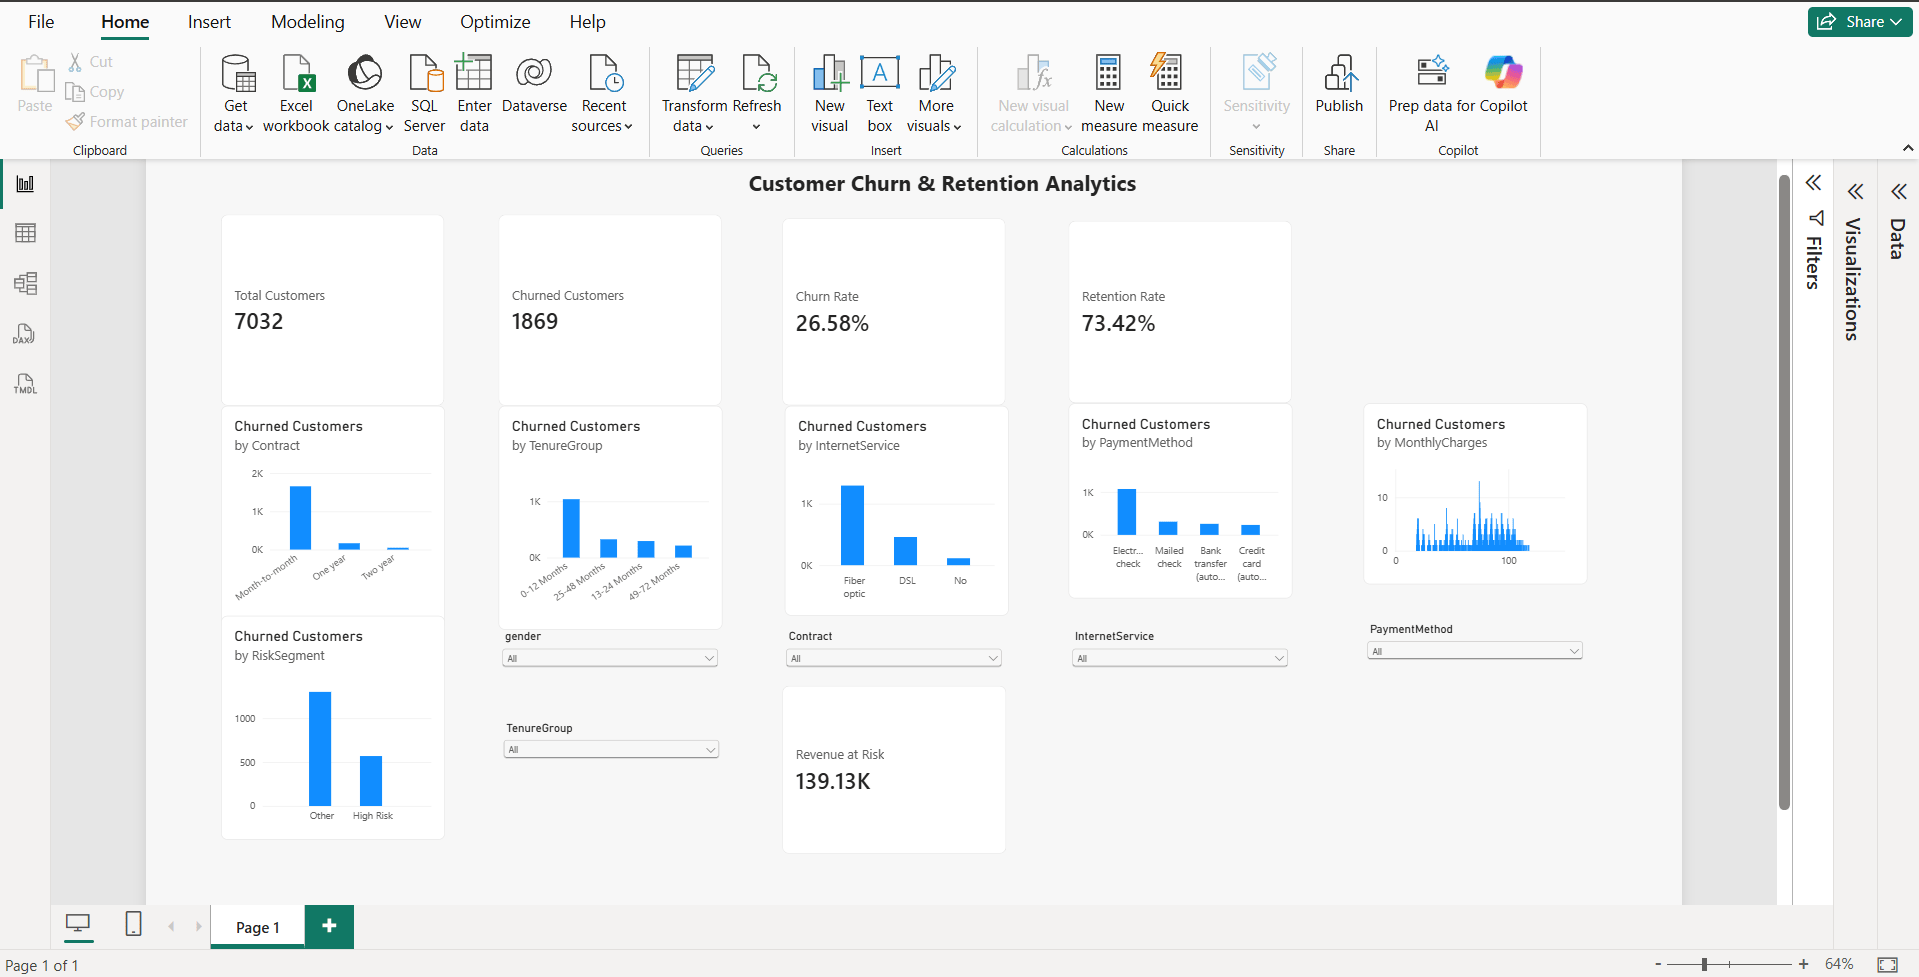

The page's visual inventory and layout, read from the dashboard file:
{"tool":"powerbi","page":{"name":"Page 1","canvas":[1920,1080],"ordinal":0},"visuals":[{"type":"cardVisual","fields":{"Data":["customer_churn_cleaned.Churn Rate"]},"box":[795.3,82.8,279.7,234.4],"z":5},{"type":"cardVisual","fields":{"Data":["customer_churn_cleaned.Retention Rate"]},"box":[1153.1,85.9,279.7,228.1],"z":6},{"type":"cardVisual","fields":{"Data":["Count(customer_churn_cleaned.customerID)"]},"box":[93.8,78.1,279.7,239.1],"z":7},{"type":"clusteredColumnChart","fields":{"Category":["customer_churn_cleaned.Contract"],"Y":["customer_churn_cleaned.Churned Customers"]},"box":[93.8,317.2,280,280],"z":8},{"type":"clusteredColumnChart","fields":{"Category":["customer_churn_cleaned.TenureGroup"],"Y":["customer_churn_cleaned.Churned Customers"]},"box":[440.6,317.2,280,280],"z":9},{"type":"clusteredColumnChart","fields":{"Category":["customer_churn_cleaned.InternetService"],"Y":["customer_churn_cleaned.Churned Customers"]},"box":[798.4,317.2,279.7,262.5],"z":10},{"type":"clusteredColumnChart","fields":{"Category":["customer_churn_cleaned.PaymentMethod"],"Y":["customer_churn_cleaned.Churned Customers"]},"box":[1153.1,314.1,279.7,243.8],"z":11},{"type":"clusteredColumnChart","fields":{"Category":["customer_churn_cleaned.RiskSegment"],"Y":["customer_churn_cleaned.Churned Customers"]},"box":[93.8,579.7,280,280],"z":13},{"type":"slicer","fields":{"Values":["customer_churn_cleaned.gender"]},"box":[440.6,596.9,279.7,140.6],"z":14},{"type":"slicer","fields":{"Values":["customer_churn_cleaned.Contract"]},"box":[795.3,596.9,279.7,123.4],"z":15},{"type":"slicer","fields":{"Values":["customer_churn_cleaned.InternetService"]},"box":[1153.1,596.9,279.7,112.5],"z":16},{"type":"slicer","fields":{"Values":["customer_churn_cleaned.PaymentMethod"]},"box":[1521.9,596.9,279.7,123.4],"z":17},{"type":"slicer","fields":{"Values":["customer_churn_cleaned.TenureGroup"]},"box":[442.2,710.9,279.7,148.4],"z":18},{"type":"textbox","box":[1503.1,20.3,279.7,48.4],"z":20},{"type":"textbox","box":[93.8,20.3,1707.8,48.4],"z":23},{"type":"cardVisual","fields":{"Data":["customer_churn_cleaned.Churned Customers"]},"box":[440.6,78.1,279.7,239.1],"z":24},{"type":"clusteredColumnChart","fields":{"Category":["customer_churn_cleaned.MonthlyCharges"],"Y":["customer_churn_cleaned.Churned Customers"]},"box":[1521.9,314.1,280,210],"z":25},{"type":"cardVisual","fields":{"Data":["customer_churn_cleaned.Revenue at Risk"]},"box":[795.3,667.2,280,210],"z":26}]}

Visuals, with their boxes on the page's 1920x1080 design canvas (x1, y1, x2, y2). These are canvas units, not pixel positions in the 1919x977 screenshot, which may show the page scaled, cropped or inside an application window:
cardVisual - customer_churn_cleaned.Churn Rate: rect(795, 83, 1075, 317)
cardVisual - customer_churn_cleaned.Retention Rate: rect(1153, 86, 1433, 314)
cardVisual - Count(customer_churn_cleaned.customerID): rect(94, 78, 374, 317)
clusteredColumnChart - customer_churn_cleaned.Contract x customer_churn_cleaned.Churned Customers: rect(94, 317, 374, 597)
clusteredColumnChart - customer_churn_cleaned.TenureGroup x customer_churn_cleaned.Churned Customers: rect(441, 317, 721, 597)
clusteredColumnChart - customer_churn_cleaned.InternetService x customer_churn_cleaned.Churned Customers: rect(798, 317, 1078, 580)
clusteredColumnChart - customer_churn_cleaned.PaymentMethod x customer_churn_cleaned.Churned Customers: rect(1153, 314, 1433, 558)
clusteredColumnChart - customer_churn_cleaned.RiskSegment x customer_churn_cleaned.Churned Customers: rect(94, 580, 374, 860)
slicer - customer_churn_cleaned.gender: rect(441, 597, 720, 738)
slicer - customer_churn_cleaned.Contract: rect(795, 597, 1075, 720)
slicer - customer_churn_cleaned.InternetService: rect(1153, 597, 1433, 709)
slicer - customer_churn_cleaned.PaymentMethod: rect(1522, 597, 1802, 720)
slicer - customer_churn_cleaned.TenureGroup: rect(442, 711, 722, 859)
textbox: rect(1503, 20, 1783, 69)
textbox: rect(94, 20, 1802, 69)
cardVisual - customer_churn_cleaned.Churned Customers: rect(441, 78, 720, 317)
clusteredColumnChart - customer_churn_cleaned.MonthlyCharges x customer_churn_cleaned.Churned Customers: rect(1522, 314, 1802, 524)
cardVisual - customer_churn_cleaned.Revenue at Risk: rect(795, 667, 1075, 877)
